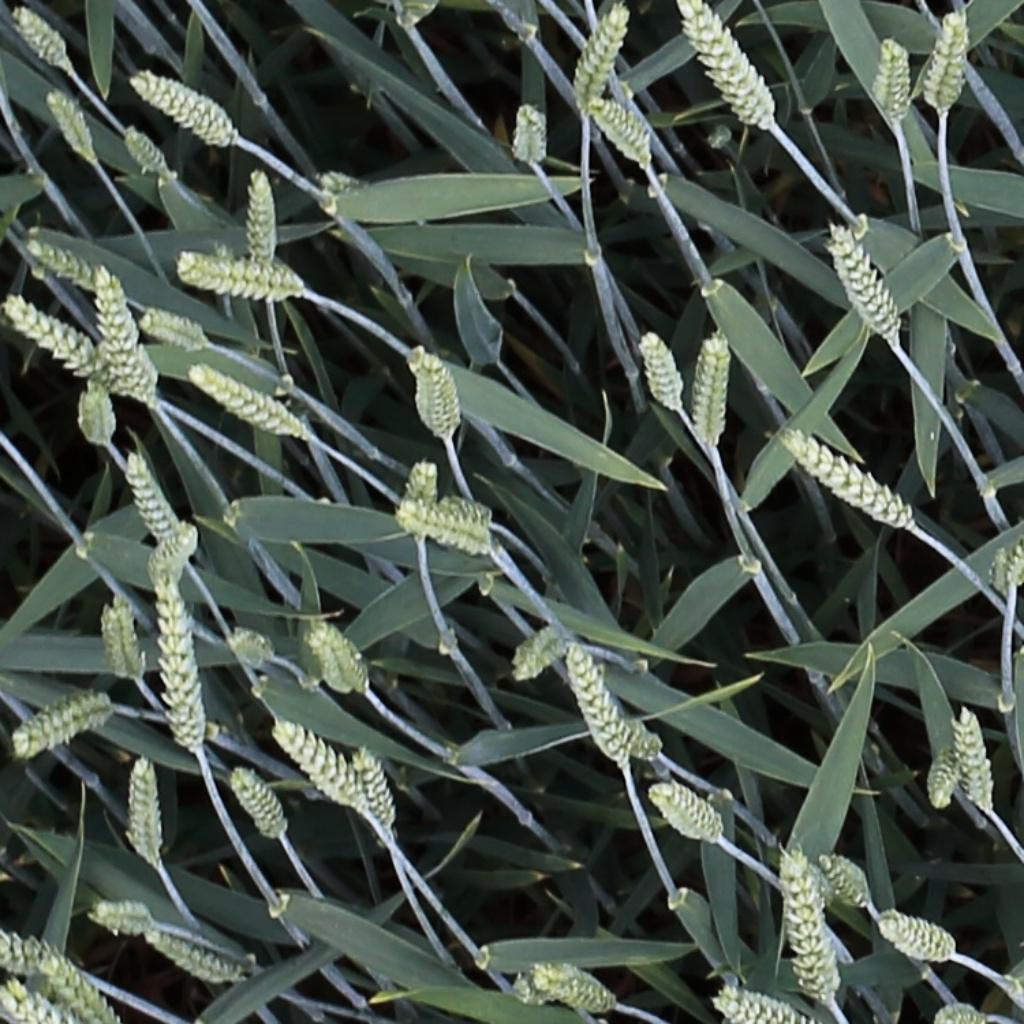0-0: (786, 432, 916, 531), (681, 0, 772, 130), (155, 576, 212, 755), (564, 643, 644, 766), (89, 262, 157, 406), (830, 214, 906, 342), (1, 296, 111, 379), (168, 242, 311, 303), (273, 720, 367, 811), (189, 364, 303, 438), (782, 850, 830, 1005), (133, 73, 234, 143), (574, 1, 633, 117), (12, 696, 111, 755), (638, 777, 723, 845), (398, 503, 502, 558), (122, 447, 178, 547), (517, 957, 617, 1010), (594, 683, 665, 757), (24, 235, 115, 291), (146, 931, 241, 984), (228, 765, 290, 845), (40, 81, 99, 165), (44, 960, 120, 1024), (99, 600, 154, 686), (687, 333, 729, 442), (955, 703, 995, 817), (709, 982, 817, 1024), (312, 622, 372, 697), (589, 94, 655, 162), (640, 326, 688, 415), (353, 745, 400, 835), (412, 343, 454, 440), (244, 166, 283, 270), (865, 34, 910, 124), (10, 4, 70, 70), (69, 372, 120, 447), (879, 913, 958, 959), (146, 521, 199, 587), (129, 752, 159, 868), (509, 96, 553, 174), (933, 10, 966, 113), (823, 856, 881, 914), (0, 932, 59, 988), (120, 120, 174, 180), (139, 312, 215, 354), (92, 898, 159, 940), (0, 980, 60, 1024), (218, 618, 275, 662), (928, 742, 961, 815), (402, 453, 439, 513), (985, 541, 1024, 594), (936, 1007, 985, 1024)
